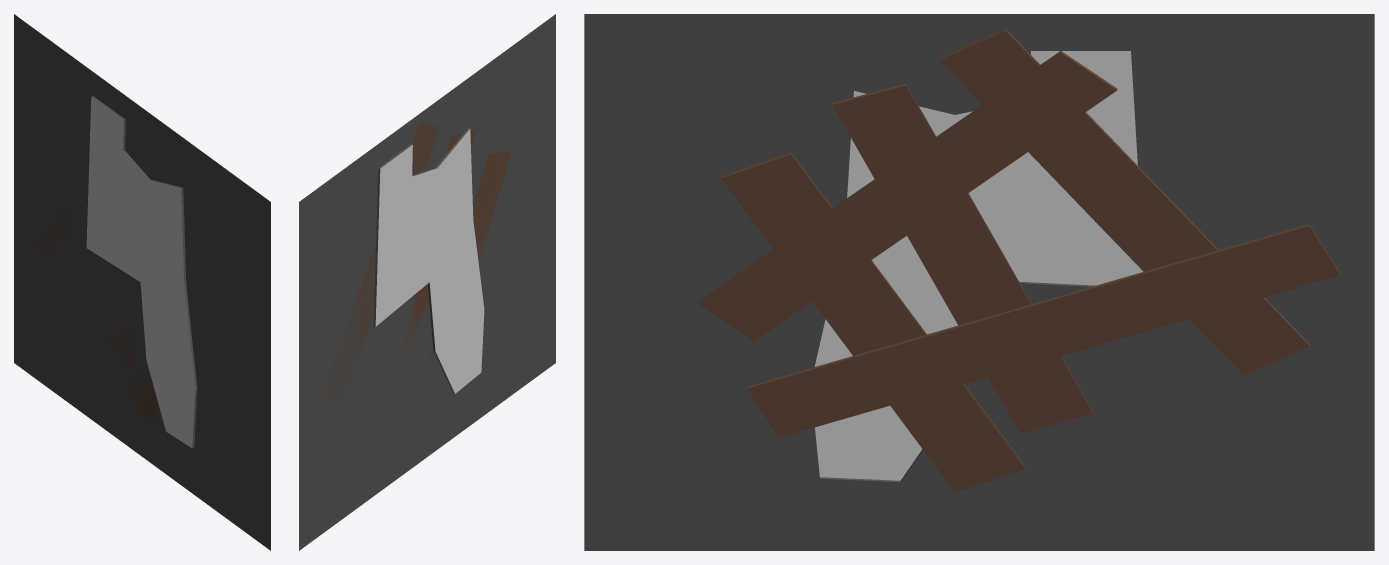
Rendered from Wall_02.fbx.
3 views of the same model, side by side, from view 1: azimuth 30°, elevation 25°; view 2: azimuth 150°, elevation 25°; view 3: azimuth 270°, elevation 25° (orthographic). The views are drawn at different scales.
Parts seen in each view (by area): view 1: Wall_02; view 2: Wall_02; view 3: Wall_02.
Boxes of the visible parts, <box> form: Wall_02: <box>14,14,270,550</box>; Wall_02: <box>299,14,555,550</box>; Wall_02: <box>584,14,1374,550</box>.
Bounding box in the file's own units: 0.0705 × 3 × 4.
